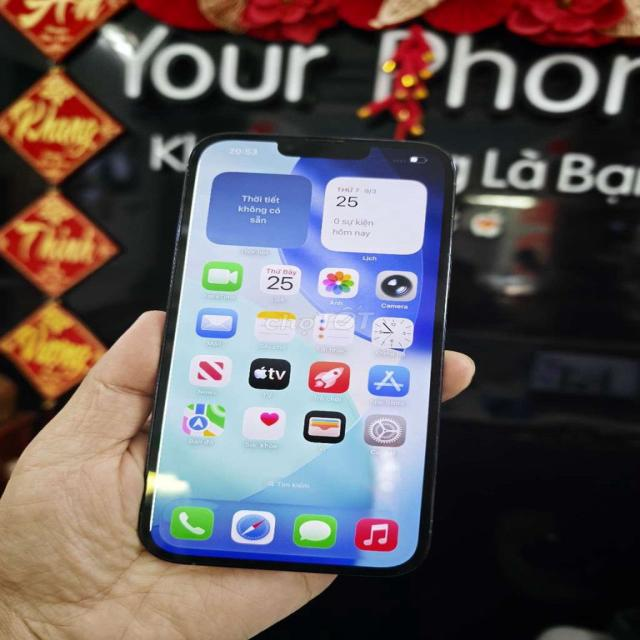gen_12_13: (136, 128, 486, 581)
